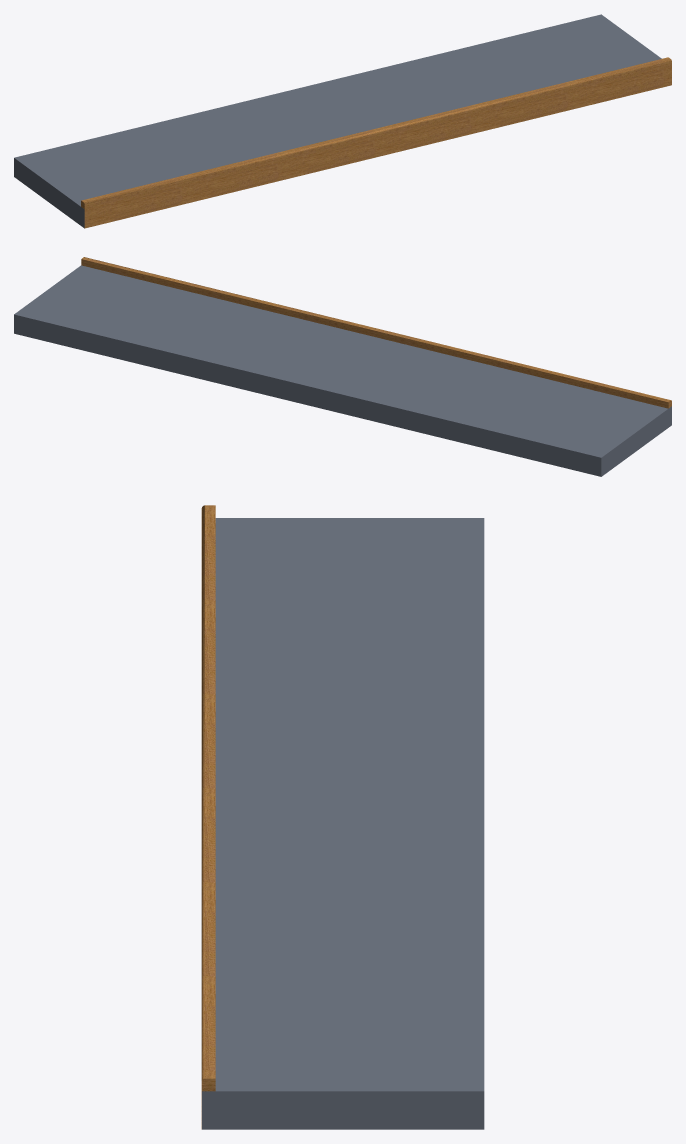
The model's file is VCKS0100.glb.
The picture shows the model from 3 angles, top to bottom: view 1: azimuth 30°, elevation 25°; view 2: azimuth 150°, elevation 25°; view 3: azimuth 270°, elevation 25°; orthographic projection. The views are drawn at different scales.
Visible parts, largest first — view 1: _bb.005, wood.001; view 2: _bb.005, wood.001; view 3: _bb.005, wood.001.
Part boxes in pixels (left/top/right/bottom): _bb.005: left=14, top=14, right=661, bottom=228; wood.001: left=81, top=57, right=671, bottom=228; _bb.005: left=14, top=265, right=671, bottom=476; wood.001: left=81, top=257, right=671, bottom=408; _bb.005: left=202, top=518, right=484, bottom=1129; wood.001: left=201, top=505, right=215, bottom=1129.
Bounding box in the file's own units: 1.22 × 0.0505 × 0.2537.
Materials: 2 (1 with a texture image).
